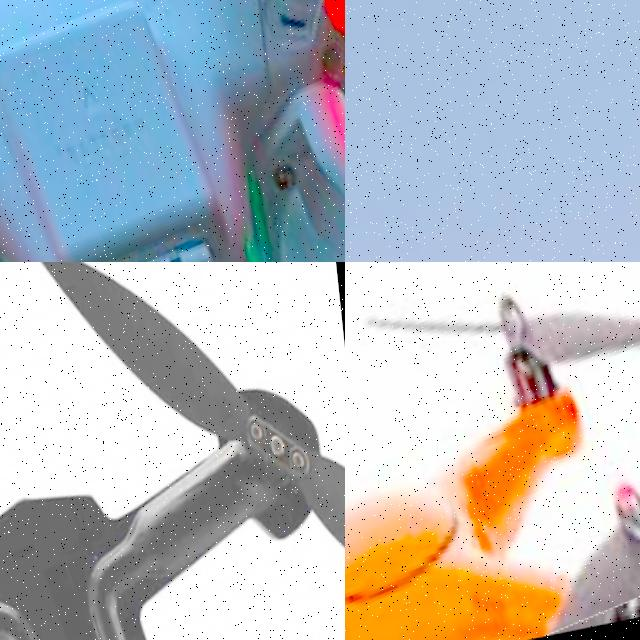drone: (0, 262, 345, 640), (345, 262, 640, 640), (0, 0, 345, 262)
